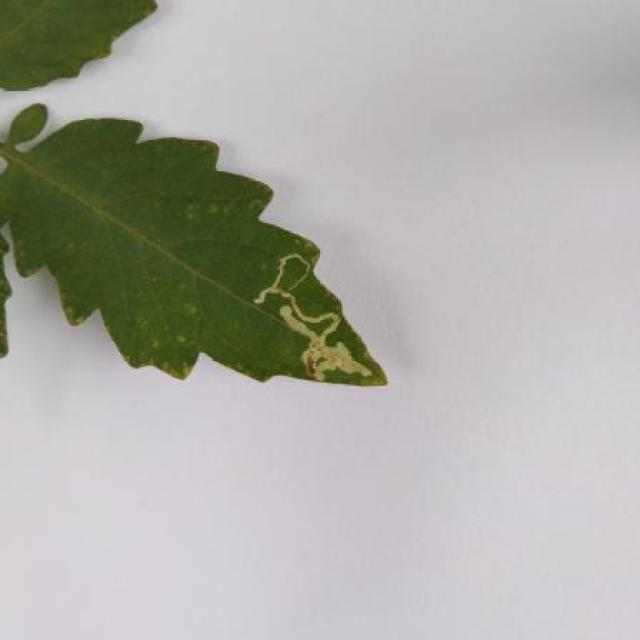Leaf Miner: (0, 119, 390, 390)
